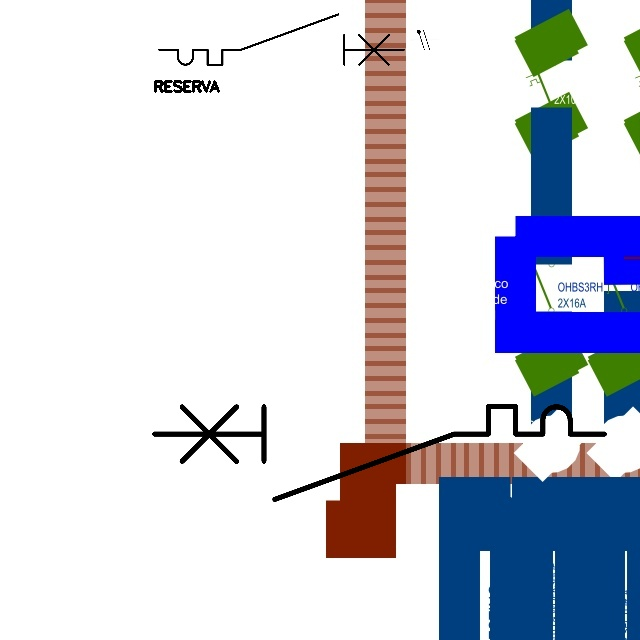interruptor_termomagnetico: (143, 395, 616, 511), (153, 8, 410, 71)
